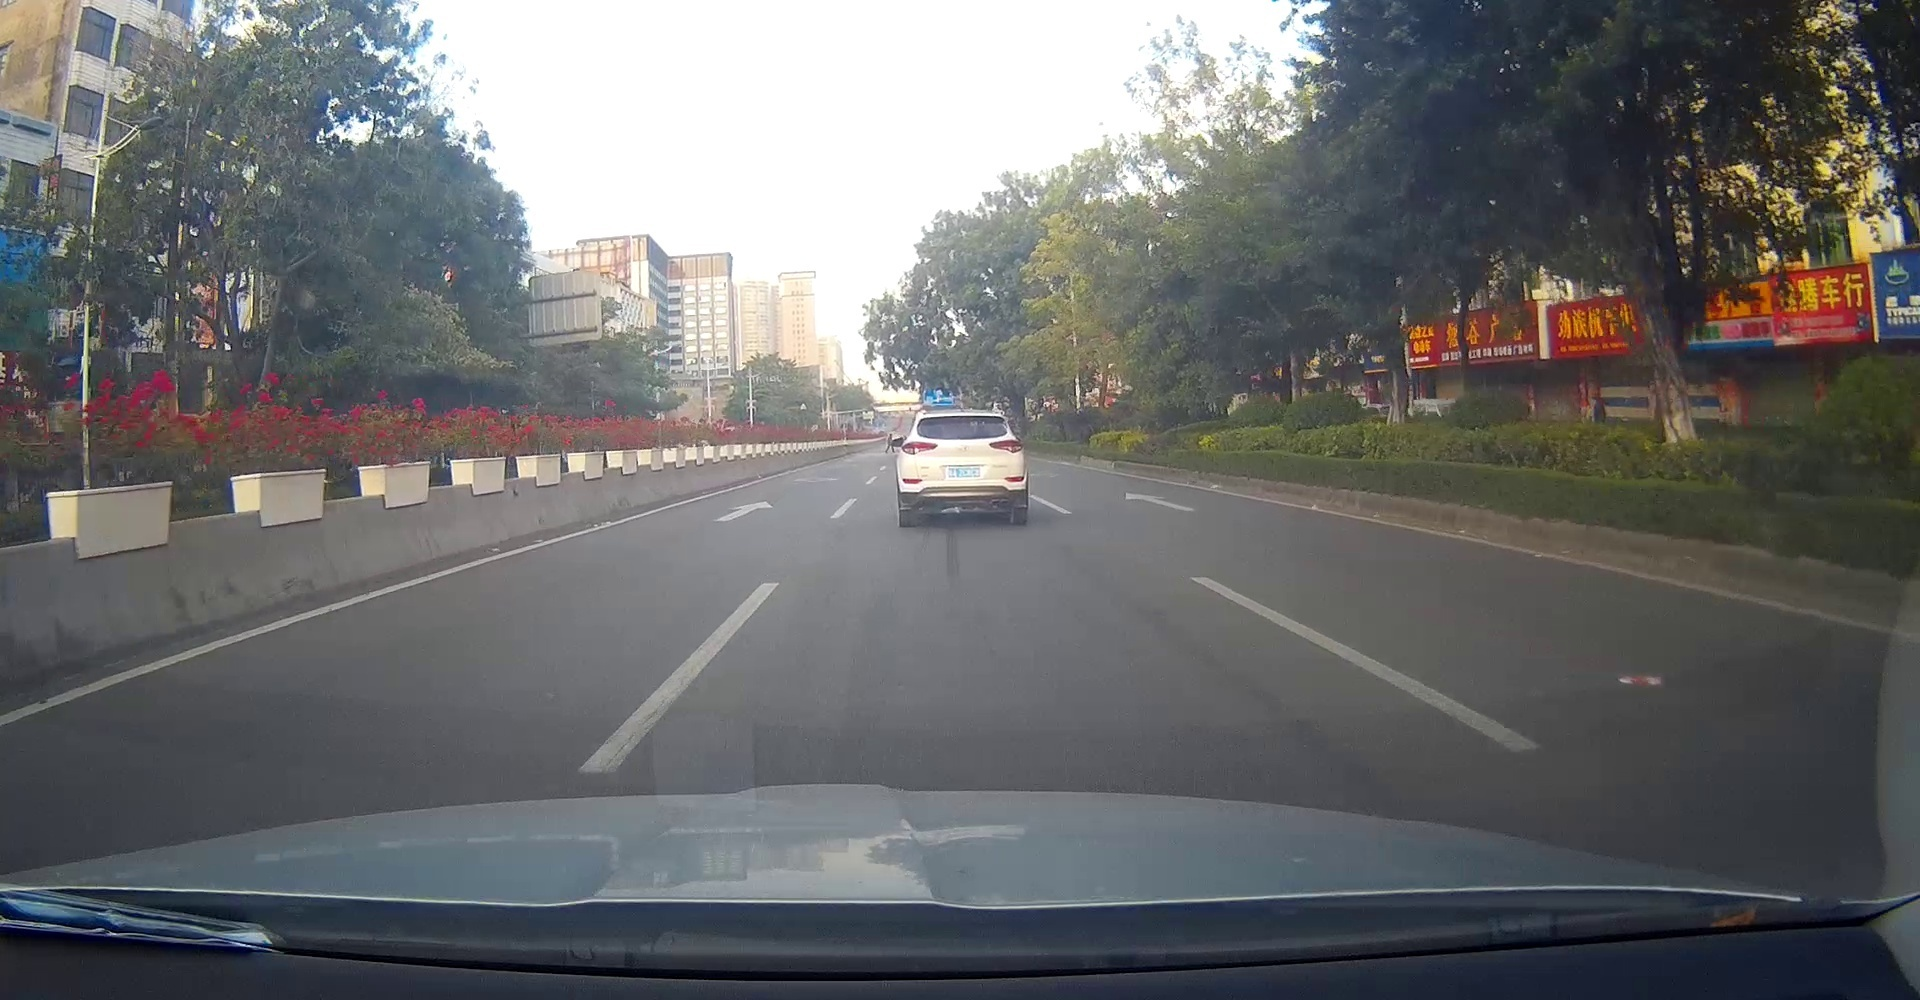L_light: (902, 442, 938, 456)
R_light: (989, 439, 1023, 453)
T_light: (954, 416, 974, 420)
day-no: (897, 411, 1027, 527)
